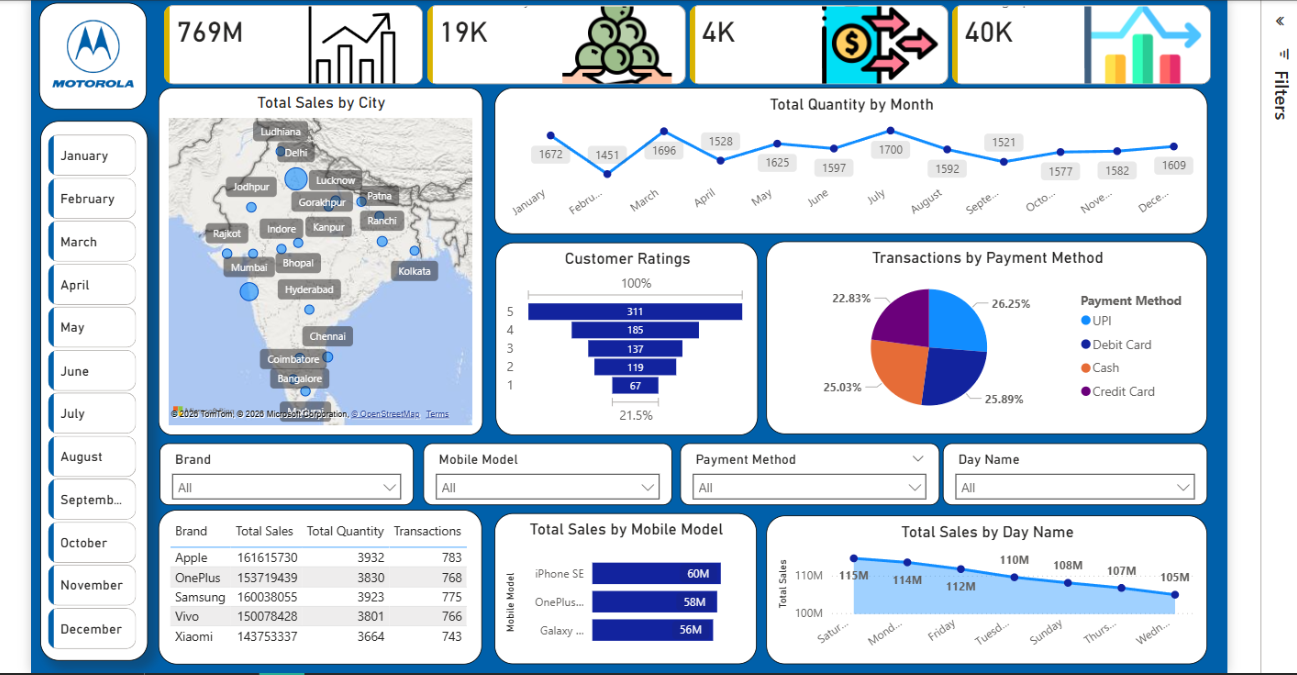

The dashboard page shown, as its layout file describes it:
{"tool":"powerbi","page":{"name":"Dashboard","canvas":[1280,720],"ordinal":0},"visuals":[{"type":"shape","box":[8.6,2.5,115.3,114.1],"z":0},{"type":"image","box":[17.2,8.6,98.2,96.9],"z":1000},{"type":"shape","box":[9.8,128.8,115.3,577.9],"z":2000},{"type":"advancedSlicerVisual","fields":{"Values":["Dashboard.Date.Variation.Date Hierarchy.Month"]},"box":[13.5,138.7,104.3,565.6],"z":3000},{"type":"cardVisual","fields":{"Data":["Dashboard.Total Sales","Dashboard.Total Quantity","Dashboard.Transactions","Dashboard.Average price"]},"box":[137.4,0,1131.3,95.7],"z":4000},{"type":"map","fields":{"Category":["Dashboard.City"],"Size":["Dashboard.Total Sales"]},"box":[136.2,93.3,347.2,371.8],"z":5000},{"type":"lineChart","fields":{"Y":["Dashboard.Total Quantity"],"Category":["Dashboard.Date.Variation.Date Hierarchy.Month","Dashboard.Date.Variation.Date Hierarchy.Day"]},"box":[495.7,93.3,763.2,157.1],"z":6000},{"type":"clusteredBarChart","fields":{"Category":["Dashboard.Mobile Model"],"Y":["Dashboard.Total Sales"]},"box":[495.7,548.5,281,162],"z":6001},{"type":"pieChart","fields":{"Category":["Dashboard.Payment Method"],"Y":["Dashboard.Transactions"]},"box":[786.5,257.7,472.4,206.1],"z":6002},{"type":"funnel","title":"Customer Ratings","fields":{"Category":["Dashboard.Customer Ratings"],"Y":["CountNonNull(Dashboard.Customer Ratings)"]},"box":[496.9,258.9,281,206.1],"z":6003},{"type":"areaChart","fields":{"Category":["Dashboard.Day Name"],"Y":["Dashboard.Total Sales"]},"box":[786.5,550.9,472.4,159.5],"z":6004},{"type":"tableEx","fields":{"Values":["Dashboard.Brand","Dashboard.Total Sales","Dashboard.Total Quantity","Dashboard.Transactions"]},"box":[136.2,544.8,346,165.6],"z":6005},{"type":"slicer","fields":{"Values":["Dashboard.Brand"]},"box":[137.4,473.6,272.4,66.3],"z":6006},{"type":"slicer","fields":{"Values":["Dashboard.Mobile Model"]},"box":[419.6,473.6,266.3,66.3],"z":6008},{"type":"slicer","fields":{"Values":["Dashboard.Payment Method"]},"box":[694.5,473.6,277.3,66.3],"z":6009},{"type":"slicer","fields":{"Values":["Dashboard.Day Name"]},"box":[975.5,473.6,283.4,66.3],"z":6010}]}

Visuals, with their boxes in screenshot pixels (x1, y1, x2, y2):
shape: pyautogui.locateOnScreen(42, 2, 148, 108)
image: pyautogui.locateOnScreen(50, 8, 141, 98)
shape: pyautogui.locateOnScreen(43, 119, 150, 654)
advancedSlicerVisual - Dashboard.Date.Variation.Date Hierarchy.Month: pyautogui.locateOnScreen(46, 128, 143, 652)
cardVisual - Dashboard.Total Sales x Dashboard.Total Quantity: pyautogui.locateOnScreen(161, 0, 1208, 89)
map - Dashboard.City x Dashboard.Total Sales: pyautogui.locateOnScreen(160, 86, 481, 430)
lineChart - Dashboard.Total Quantity x Dashboard.Date.Variation.Date Hierarchy.Month: pyautogui.locateOnScreen(492, 86, 1199, 232)
clusteredBarChart - Dashboard.Mobile Model x Dashboard.Total Sales: pyautogui.locateOnScreen(492, 507, 752, 657)
pieChart - Dashboard.Payment Method x Dashboard.Transactions: pyautogui.locateOnScreen(761, 238, 1199, 429)
"Customer Ratings" funnel: pyautogui.locateOnScreen(494, 240, 754, 430)
areaChart - Dashboard.Day Name x Dashboard.Total Sales: pyautogui.locateOnScreen(761, 510, 1199, 657)
tableEx - Dashboard.Brand x Dashboard.Total Sales: pyautogui.locateOnScreen(160, 504, 480, 657)
slicer - Dashboard.Brand: pyautogui.locateOnScreen(161, 438, 413, 500)
slicer - Dashboard.Mobile Model: pyautogui.locateOnScreen(422, 438, 668, 500)
slicer - Dashboard.Payment Method: pyautogui.locateOnScreen(676, 438, 933, 500)
slicer - Dashboard.Day Name: pyautogui.locateOnScreen(936, 438, 1199, 500)
